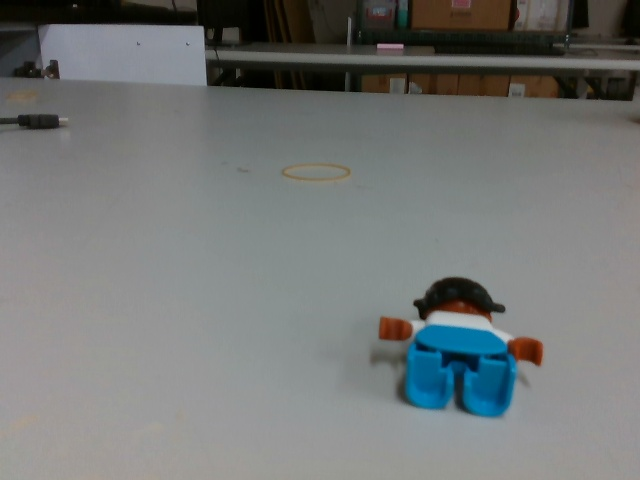people: (378, 274, 544, 420)
